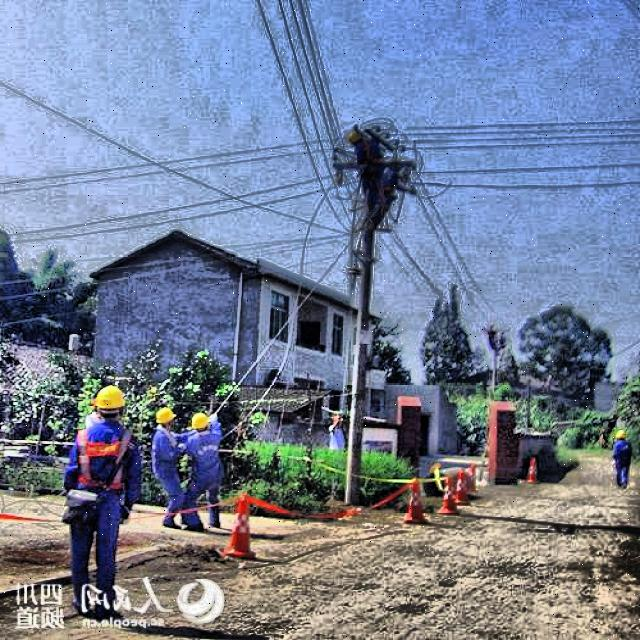helmet: (90, 379, 130, 423), (151, 402, 181, 432), (344, 123, 368, 149), (192, 409, 212, 436), (614, 426, 630, 444)
